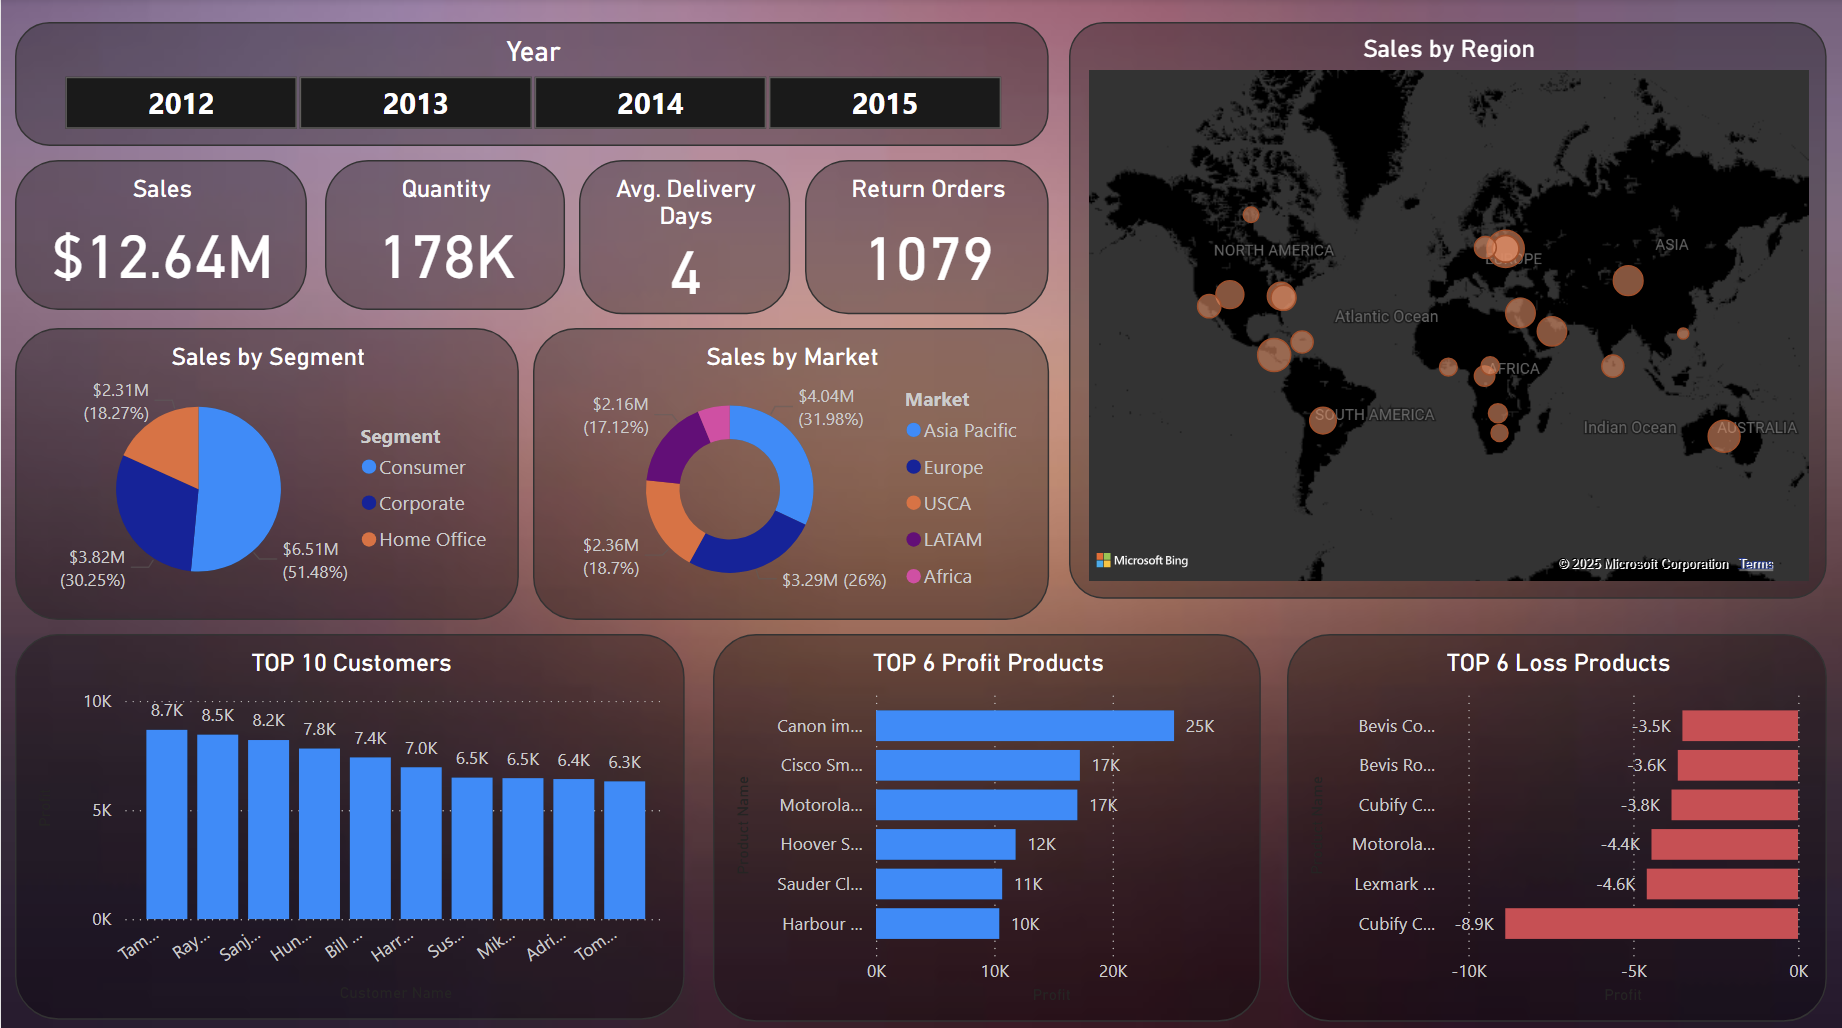

This screenshot's page, from the dashboard's own definition file:
{"tool":"powerbi","page":{"name":"P","canvas":[1280,720],"ordinal":0},"visuals":[{"type":"card","title":"Sales","fields":{"Values":["Orders.Sales"]},"box":[9.7,112.4,202.5,104],"z":0},{"type":"card","title":"Quantity","fields":{"Values":["Orders.Quantity"]},"box":[224.7,112.4,166.5,104],"z":1000},{"type":"card","title":"Avg. Delivery Days","fields":{"Values":["Orders.Delivery Days"]},"box":[401.4,112.7,146.5,107],"z":2000},{"type":"slicer","title":"Year","fields":{"Values":["Orders.Year"]},"box":[9.9,16.9,716.9,85.9],"z":3000},{"type":"card","title":"Return Orders","fields":{"Values":["Returns.Return Orders"]},"box":[557.7,112.4,169.2,106.8],"z":4000},{"type":"map","fields":{"Category":["Orders.Region"],"Size":["Orders.Sales"]},"box":[740.8,16.9,525.4,400],"z":5000},{"type":"barChart","title":"TOP 6 Profit  Products","fields":{"Category":["Orders.Product Name"],"Y":["Orders.Profit"]},"box":[493.9,441.2,380.1,269.1],"z":6000},{"type":"barChart","title":"TOP 6 Loss  Products","fields":{"Category":["Orders.Product Name"],"Y":["Orders.Profit"]},"box":[892,441.2,374.6,269.1],"z":7000},{"type":"pieChart","fields":{"Category":["Orders.Segment"],"Y":["Orders.Sales"]},"box":[9.7,228.9,349.6,202.5],"z":8000},{"type":"donutChart","fields":{"Y":["Orders.Sales"],"Category":["Orders.Market"]},"box":[369,228.9,357.9,202.5],"z":9000},{"type":"columnChart","title":"TOP 10 Customers","fields":{"Y":["Orders.Profit"],"Category":["Orders.Customer Name"]},"box":[9.7,441.2,464.7,267.7],"z":10000}]}

Visuals, with their boxes in screenshot pixels (x1, y1, x2, y2), scaled from the page's 1280x720 canvas onto the 1842x1028 screenshot:
"Sales" card: 14,160,305,309
"Quantity" card: 323,160,563,309
"Avg. Delivery Days" card: 578,161,788,314
"Year" slicer: 14,24,1046,147
"Return Orders" card: 803,160,1046,313
map - Orders.Region x Orders.Sales: 1066,24,1822,595
"TOP 6 Profit  Products" barChart: 711,630,1258,1014
"TOP 6 Loss  Products" barChart: 1284,630,1823,1014
pieChart - Orders.Segment x Orders.Sales: 14,327,517,616
donutChart - Orders.Sales x Orders.Market: 531,327,1046,616
"TOP 10 Customers" columnChart: 14,630,683,1012
